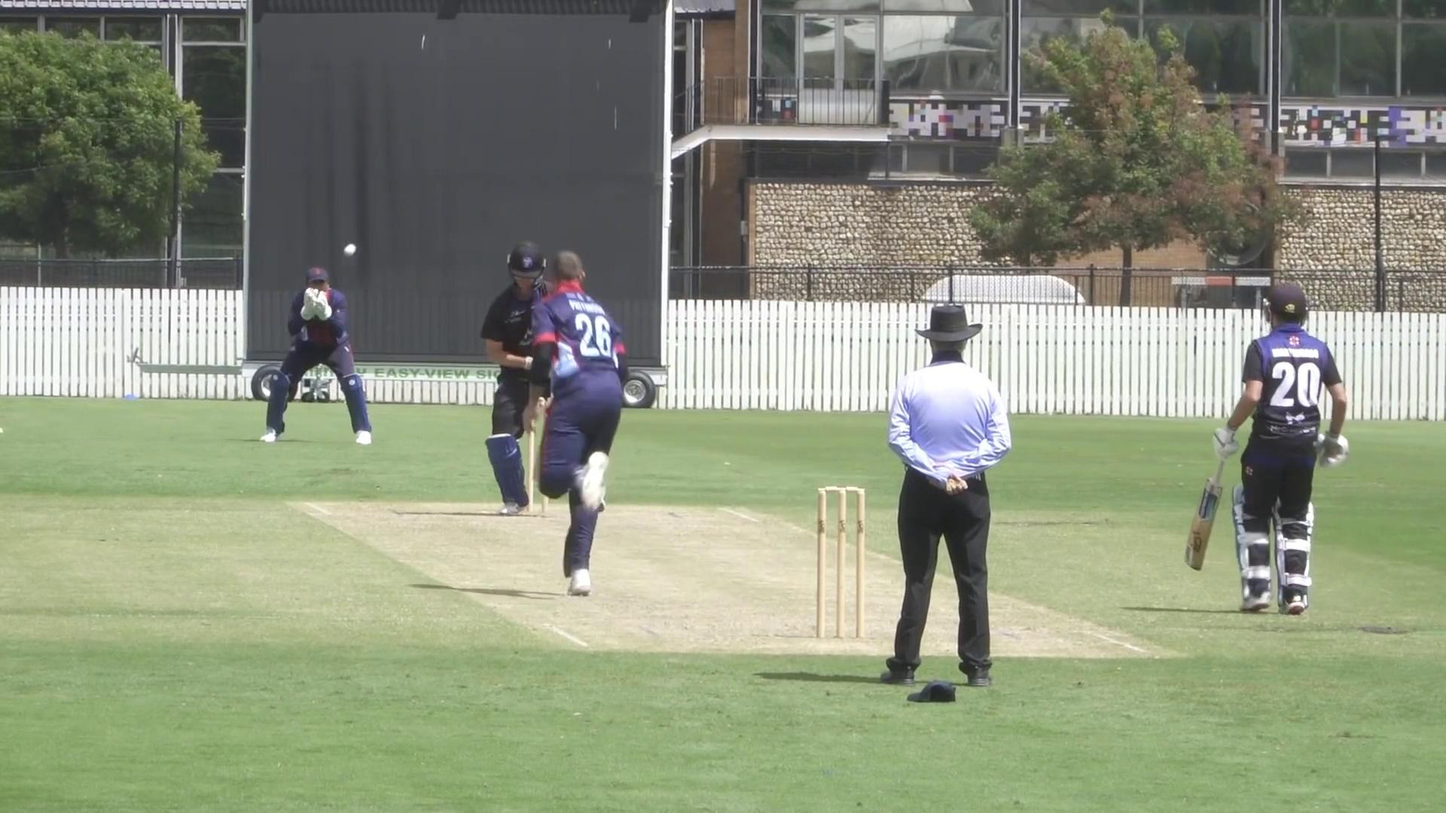ball: (337, 239, 365, 261)
